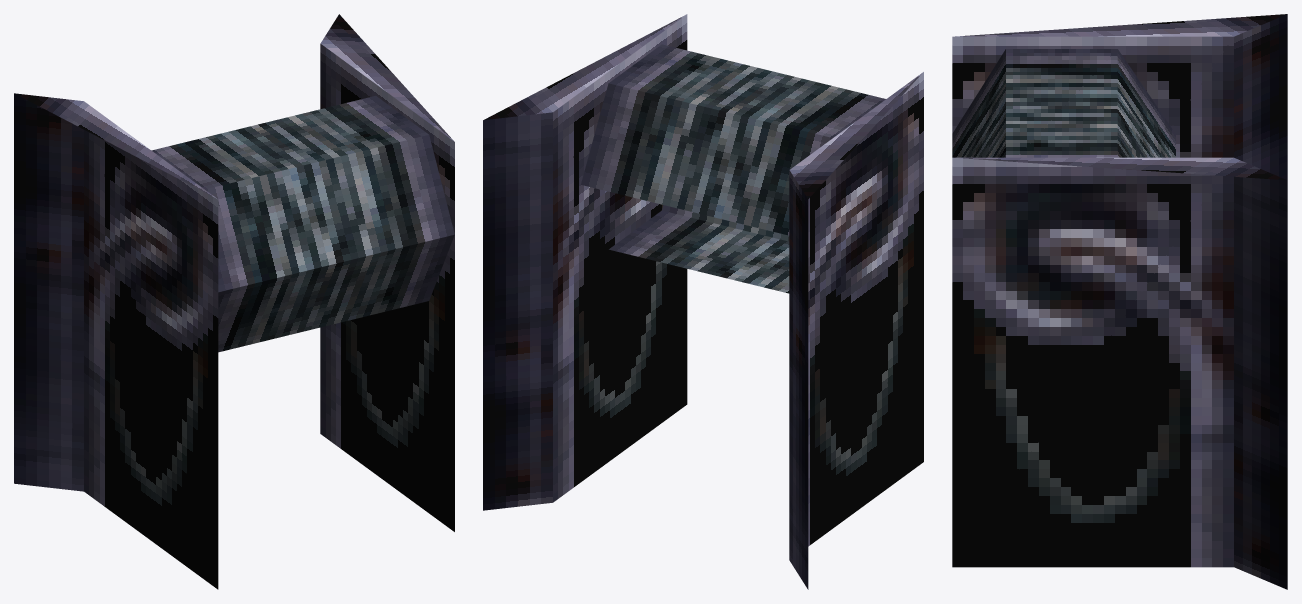
3 views of the same model, side by side, from view 1: azimuth 30°, elevation 25°; view 2: azimuth 150°, elevation 25°; view 3: azimuth 270°, elevation 25° (orthographic). The views are drawn at different scales.
Parts seen in each view (by area): view 1: prim219-winch; view 2: prim219-winch; view 3: prim219-winch.
Part boxes in pixels (x1,y1,x2,y2): prim219-winch: [14, 14, 454, 589]; prim219-winch: [483, 14, 923, 589]; prim219-winch: [952, 14, 1287, 589].
Size of the model in its own units: 88 by 101 by 75.
Materials: 1 (1 with a texture image).
